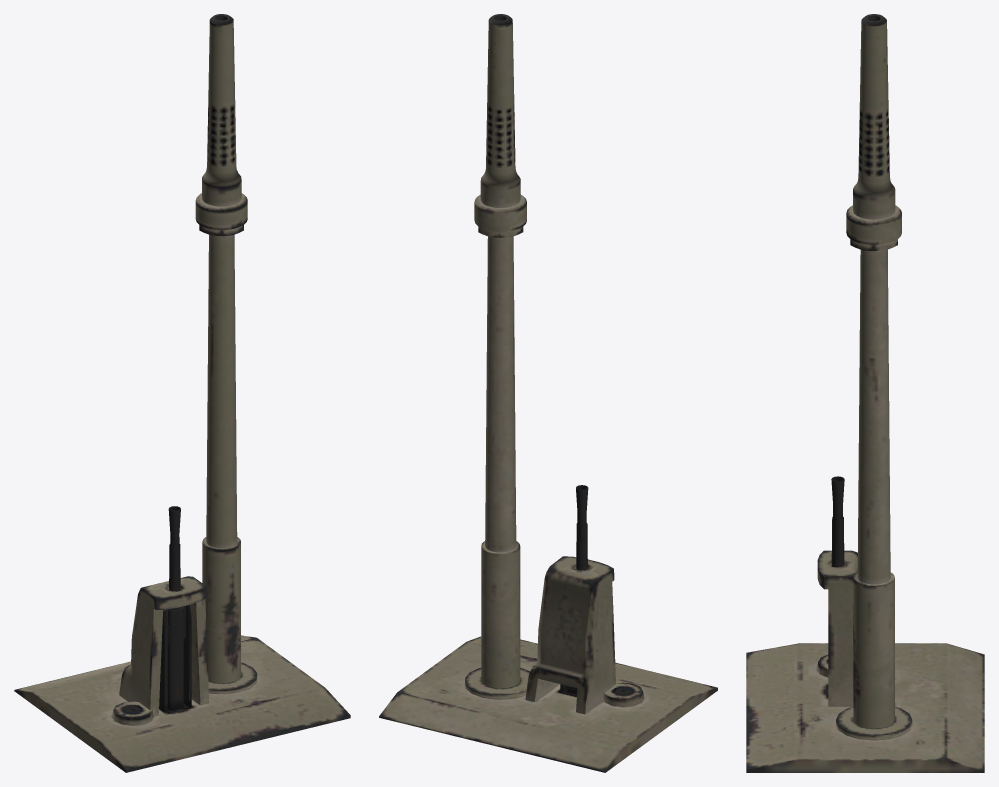
The model's file is Gun_06.glb.
The picture shows the model from 3 angles, left to right: view 1: azimuth 30°, elevation 25°; view 2: azimuth 150°, elevation 25°; view 3: azimuth 270°, elevation 25°; orthographic projection. The views are drawn at different scales.
Visible parts, largest first — view 1: set_0_group_0; view 2: set_0_group_0; view 3: set_0_group_0.
Part boxes in pixels (left/top/right/bottom): set_0_group_0: left=14, top=14, right=350, bottom=772; set_0_group_0: left=379, top=14, right=717, bottom=772; set_0_group_0: left=746, top=14, right=984, bottom=772.
Size of the model in its own units: 0.6513 by 1.87 by 0.561.
Materials: 1 (1 with a texture image).
